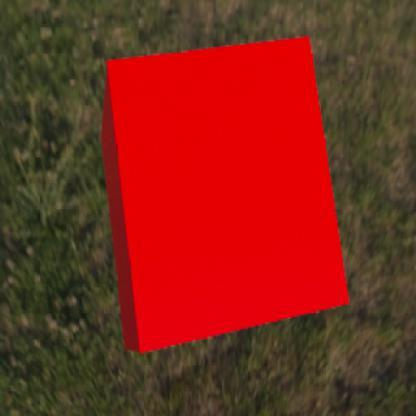cube: (100, 35, 348, 352)
